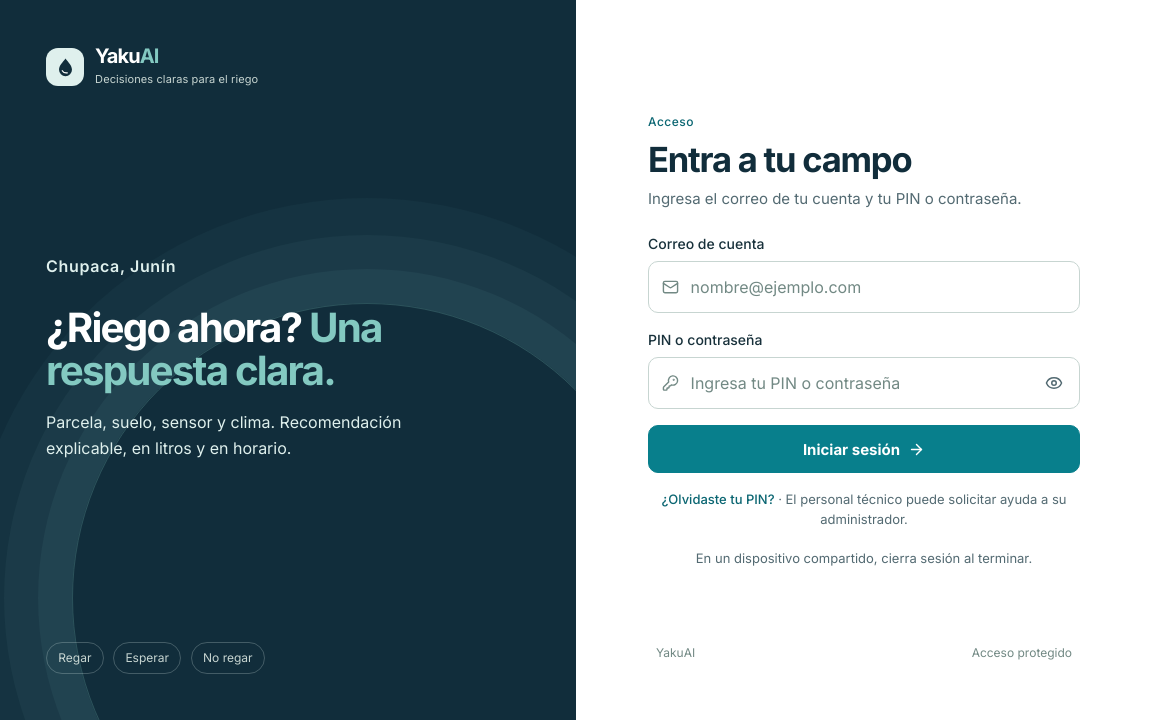
Test: Ingreso › valida el formato del correo antes de enviar
Type "sin-arroba" into the field labelled "Correo de cuenta" at (864, 287), box left=648, top=261, right=1080, bottom=313
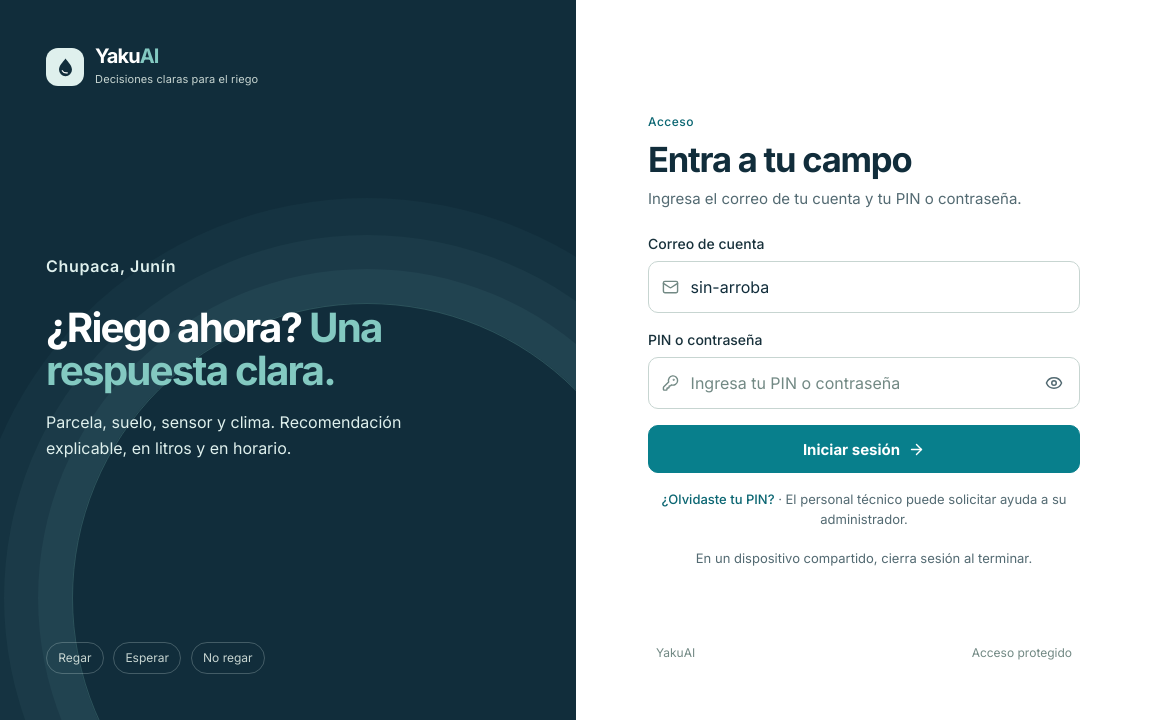
Type "1234" into the password field labelled "PIN o contraseña" at (864, 383), box left=648, top=357, right=1080, bottom=409
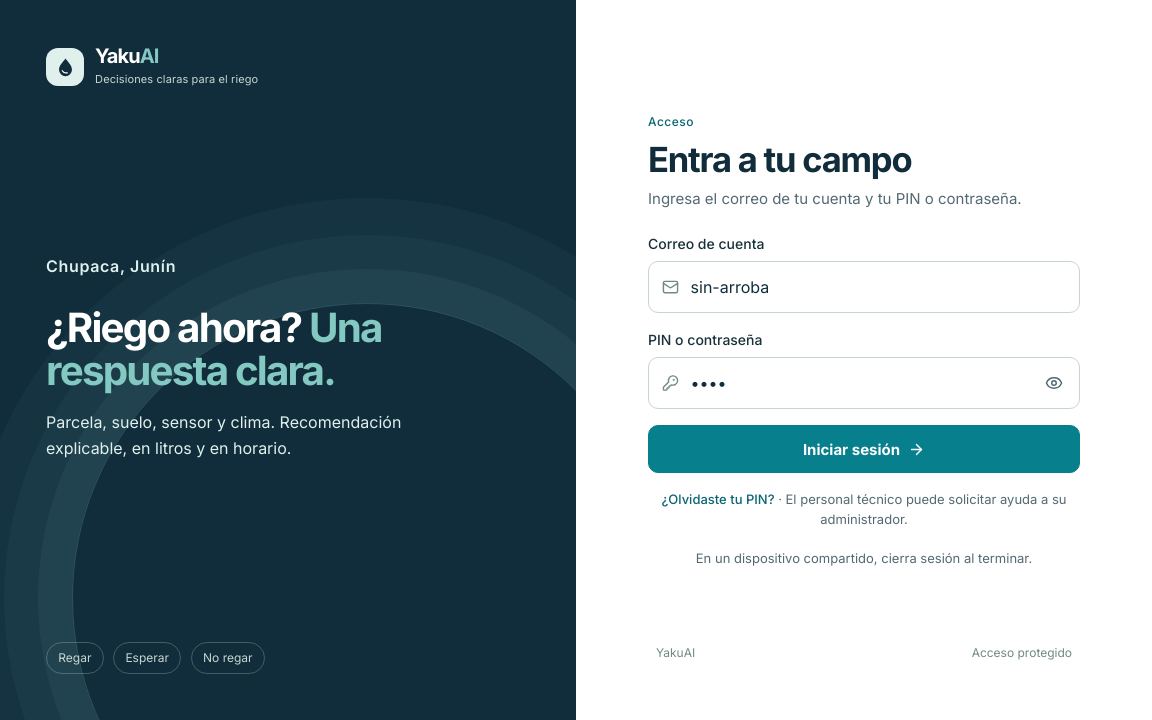
Click the button "Iniciar sesión" at (864, 449), box left=648, top=425, right=1080, bottom=473
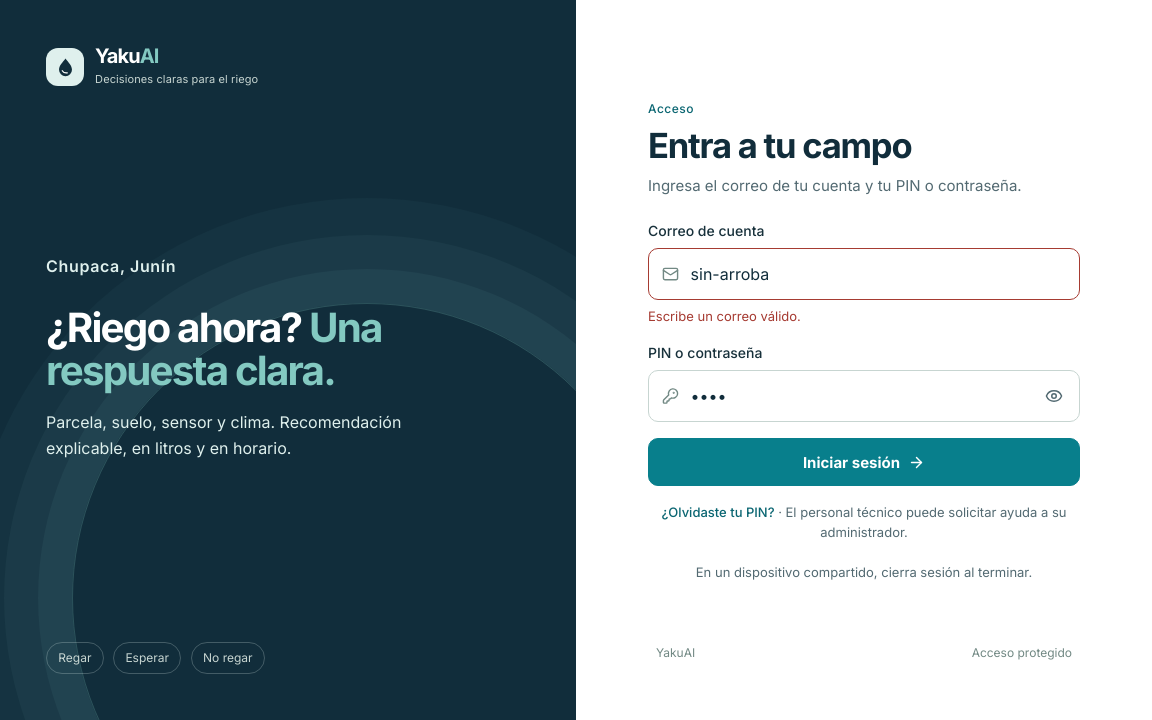
Result: the text "Escribe un correo válido." is shown at left=648, top=308, right=801, bottom=324
